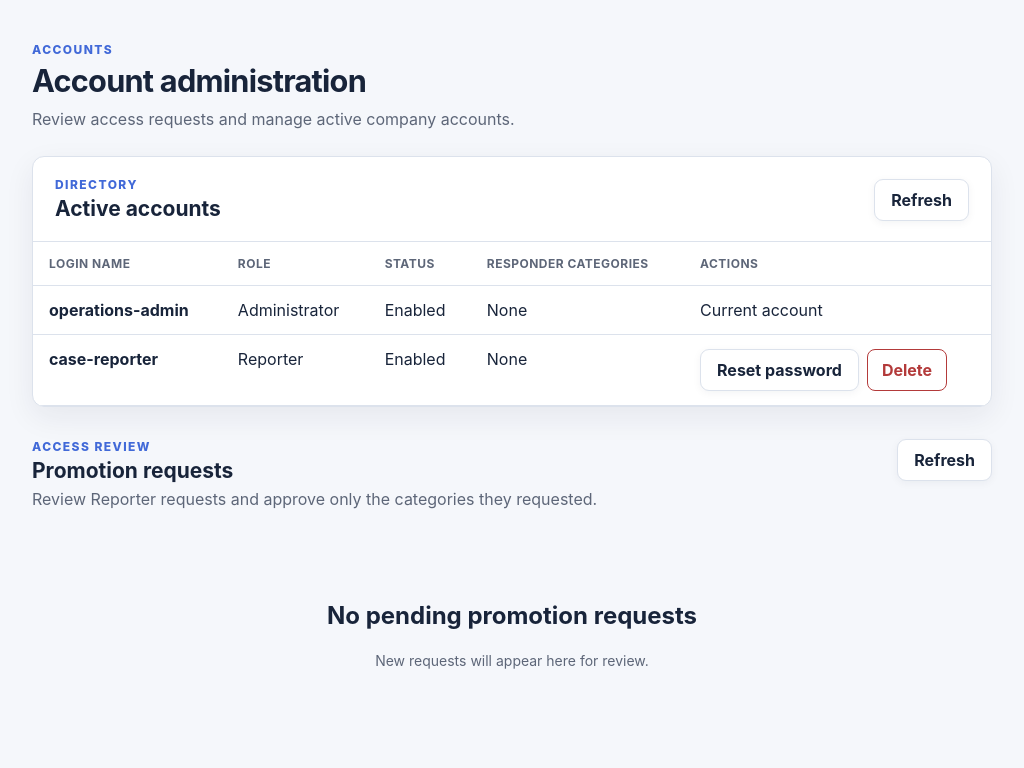
Test case: Administrator account directory › requires an explicit destructive confirmation and never offers self-deletion
Expected: the text "Current account" is shown, [700,300,823,320]
Expected: the button "Delete account" is not shown
Click the button with aria-label "Delete account case-reporter": [907, 370] box [867,349,947,391]
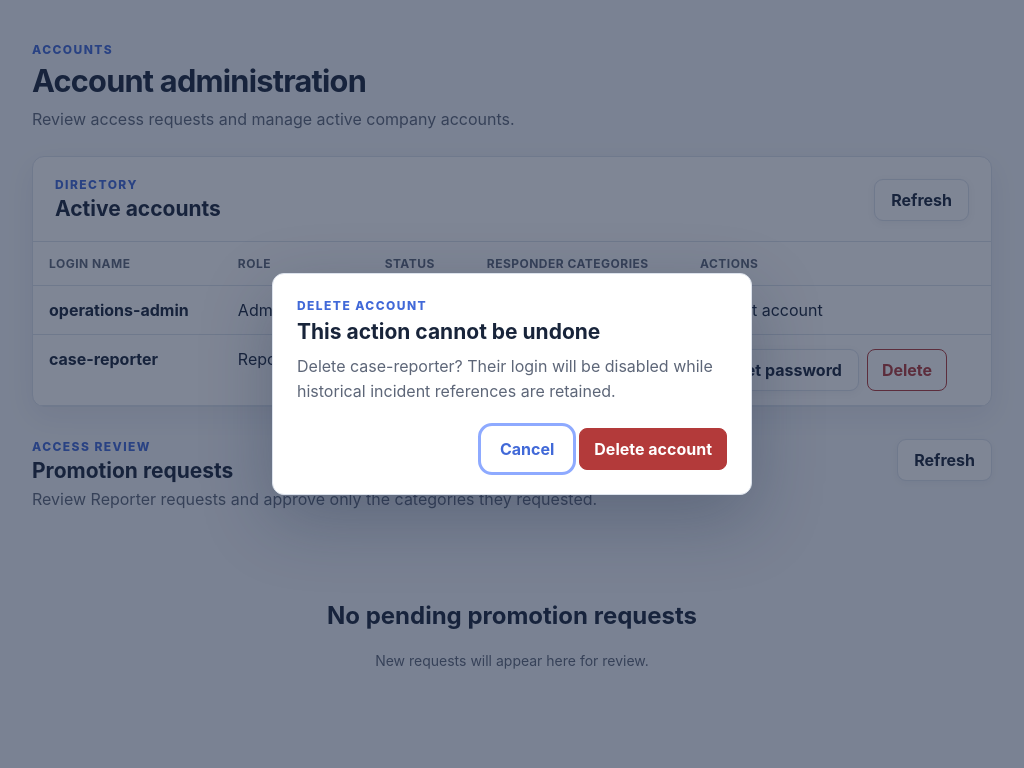
Now the text "historical incident references are retained" is shown, box [297,356,713,401]
Click the button "Delete account": [653, 449] box [579,428,727,470]
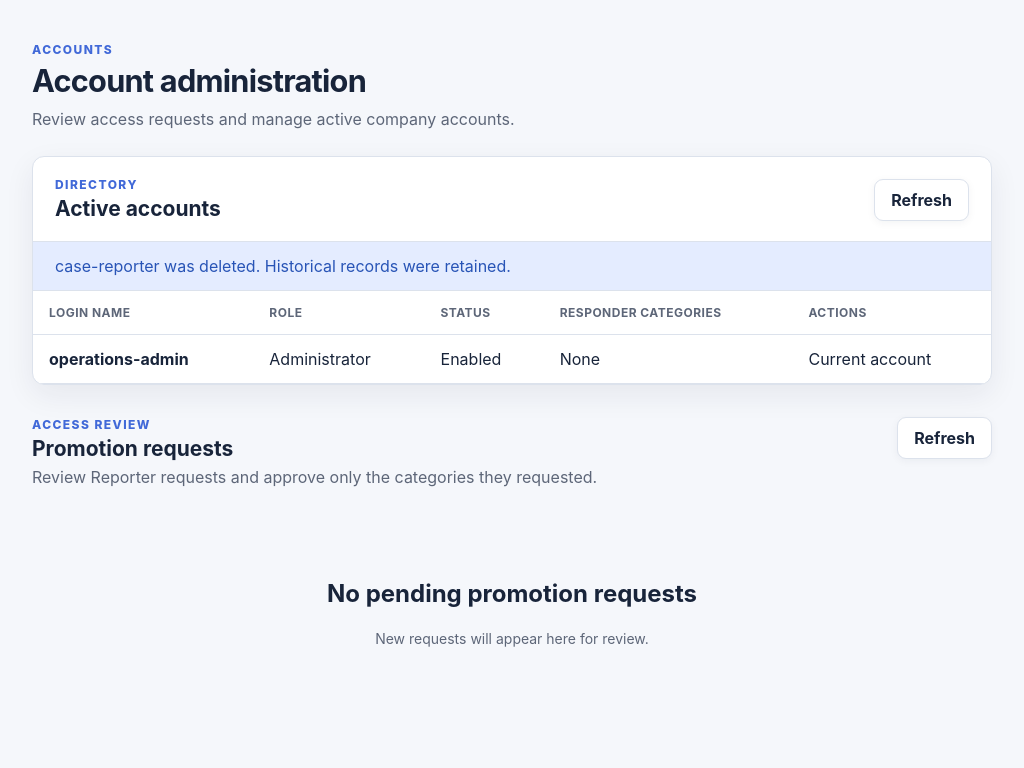
Now the message shows "Historical records were retained", box [55,256,511,276]
